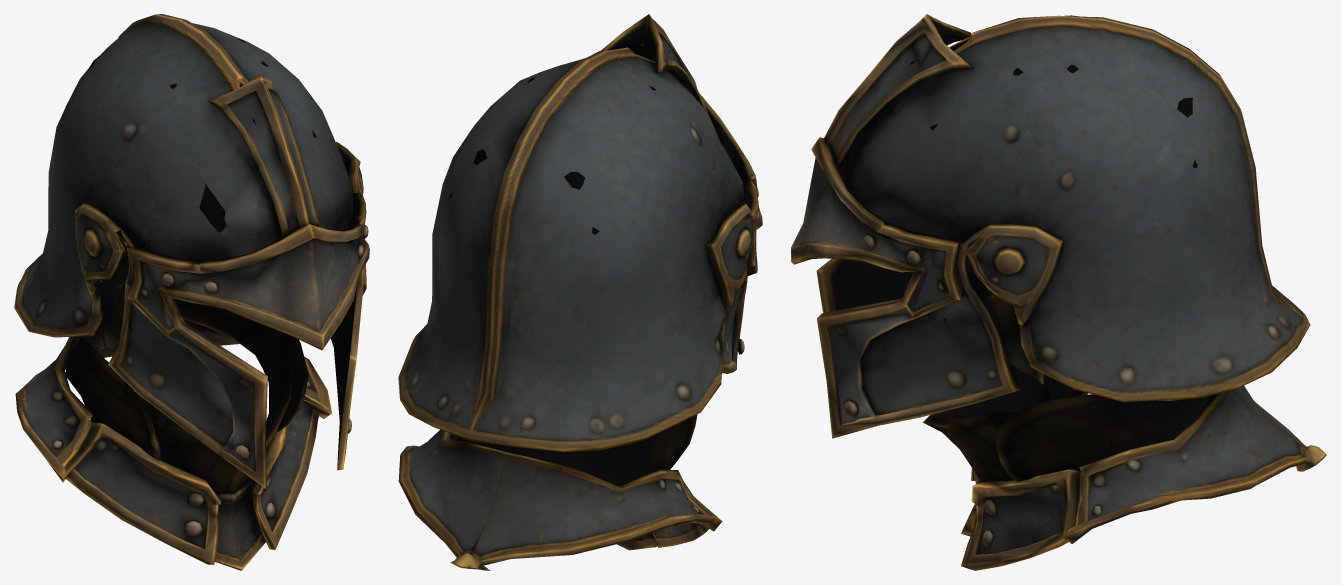
The model's file is meshy.glb.
3 renders of one model, left to right at view 1: azimuth 30°, elevation 25°; view 2: azimuth 150°, elevation 25°; view 3: azimuth 270°, elevation 25°, orthographic. The views are drawn at different scales.
Visible parts, largest first — view 1: geometry_0; view 2: geometry_0; view 3: geometry_0.
Part boxes in pixels (box(x1,y1,x2,y2)): geometry_0: box(14, 14, 369, 570); geometry_0: box(398, 14, 762, 570); geometry_0: box(791, 14, 1326, 570).
Bounding box in the file's own units: 0.5581 × 0.9521 × 0.835.
Materials: 1 (1 with a texture image).
